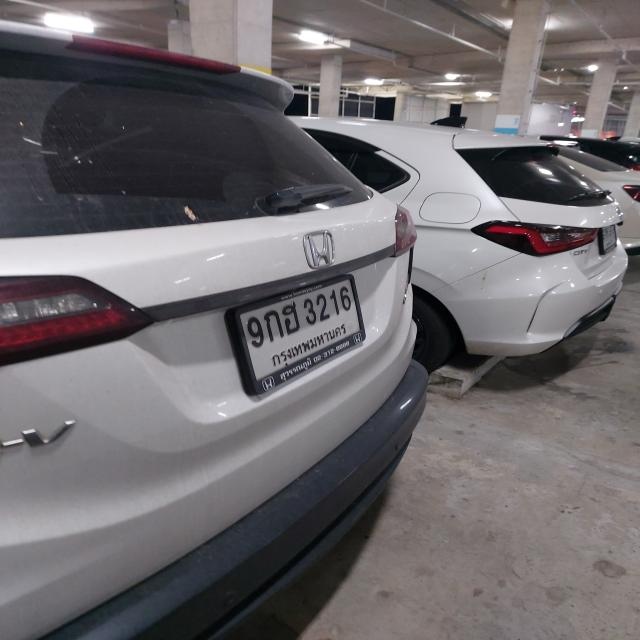license_plate: (240, 278, 361, 381)
